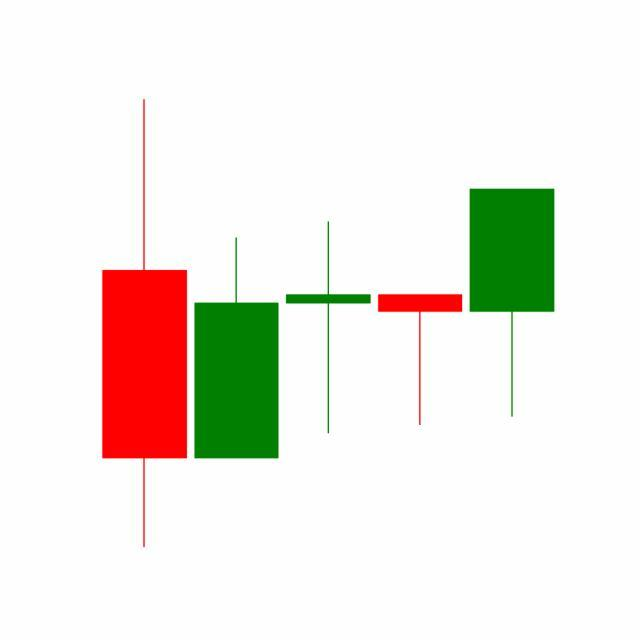Dragonfly Doji: (374, 293, 468, 428)
